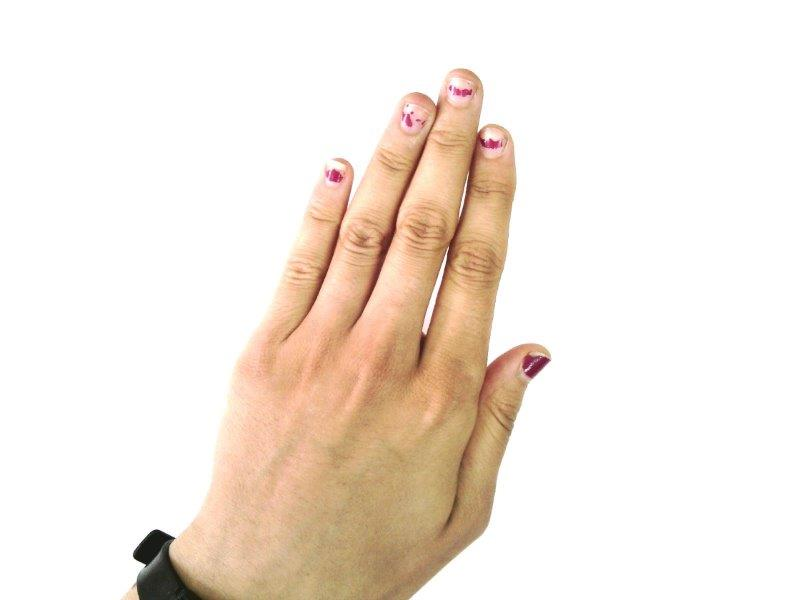hand: (212, 69, 553, 556)
